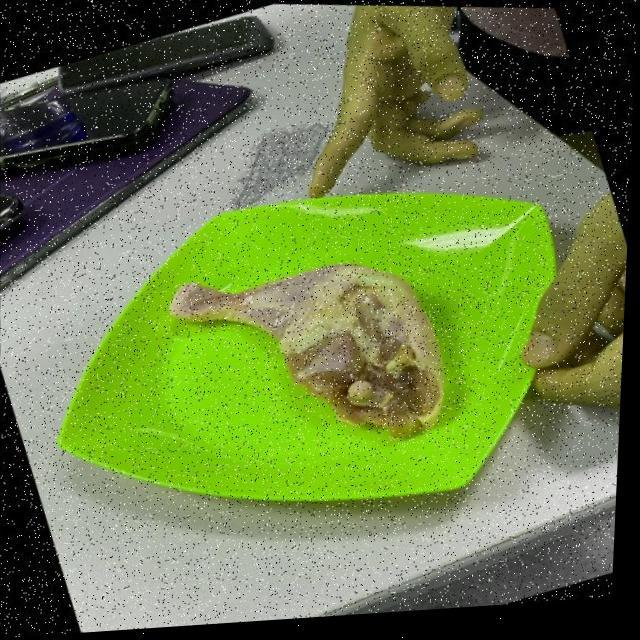quater: (171, 270, 443, 462)
